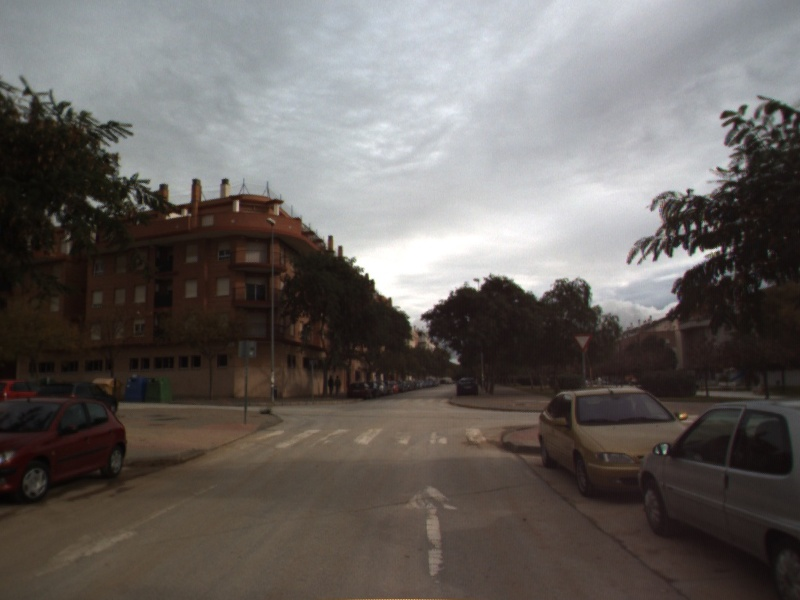STRAIGHT: (400, 481, 463, 579)
